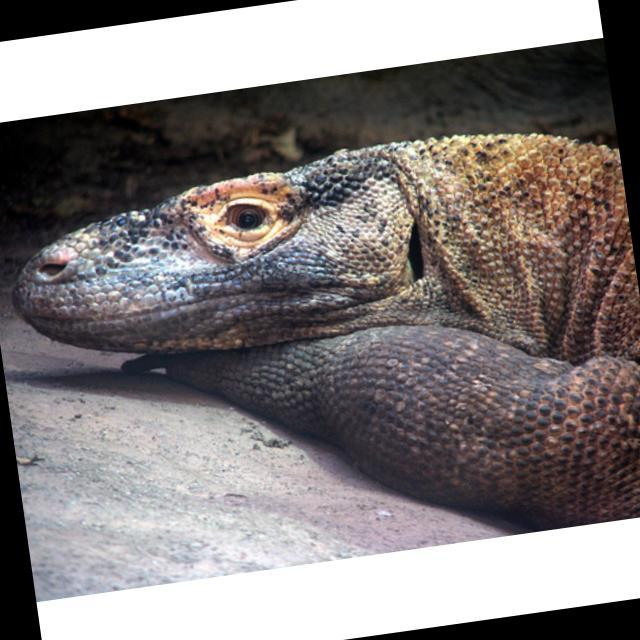KomodoDragon: (1, 110, 640, 597)
